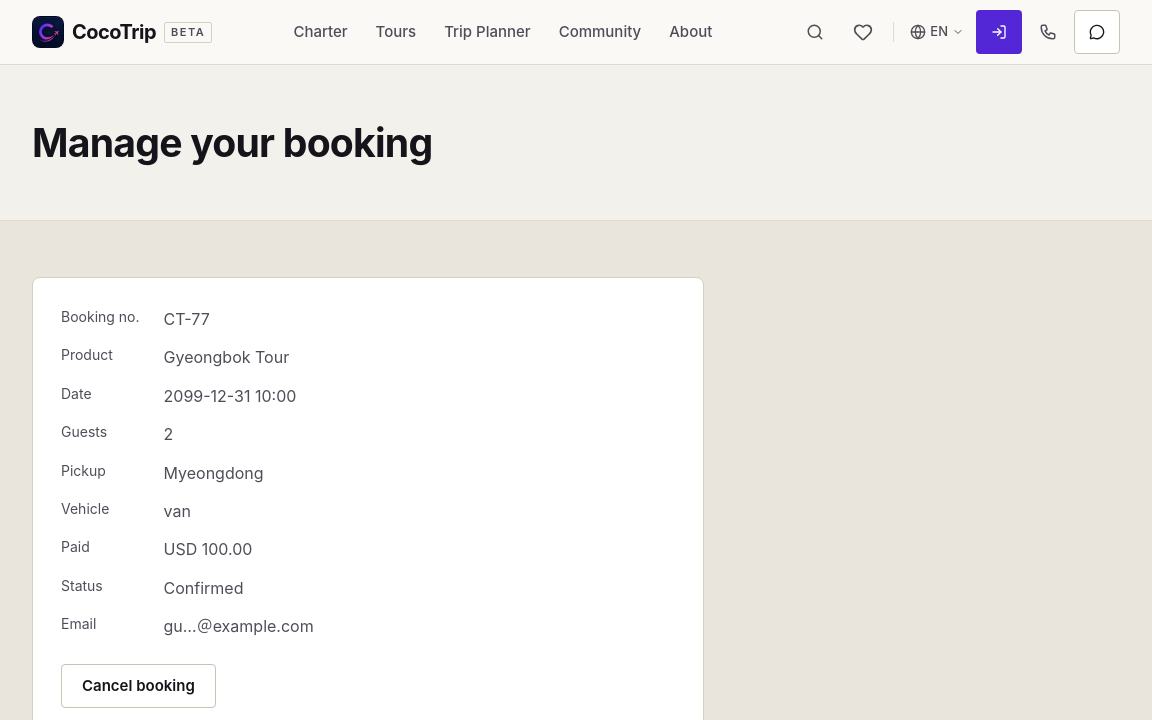
Test: /booking/manage › cancel 409 → reloads the latest status and shows the conflict notice (not the error screen)
The image size is (1152, 720).
Click the button "Cancel booking": {"x": 138, "y": 686} [61, 664, 216, 708]
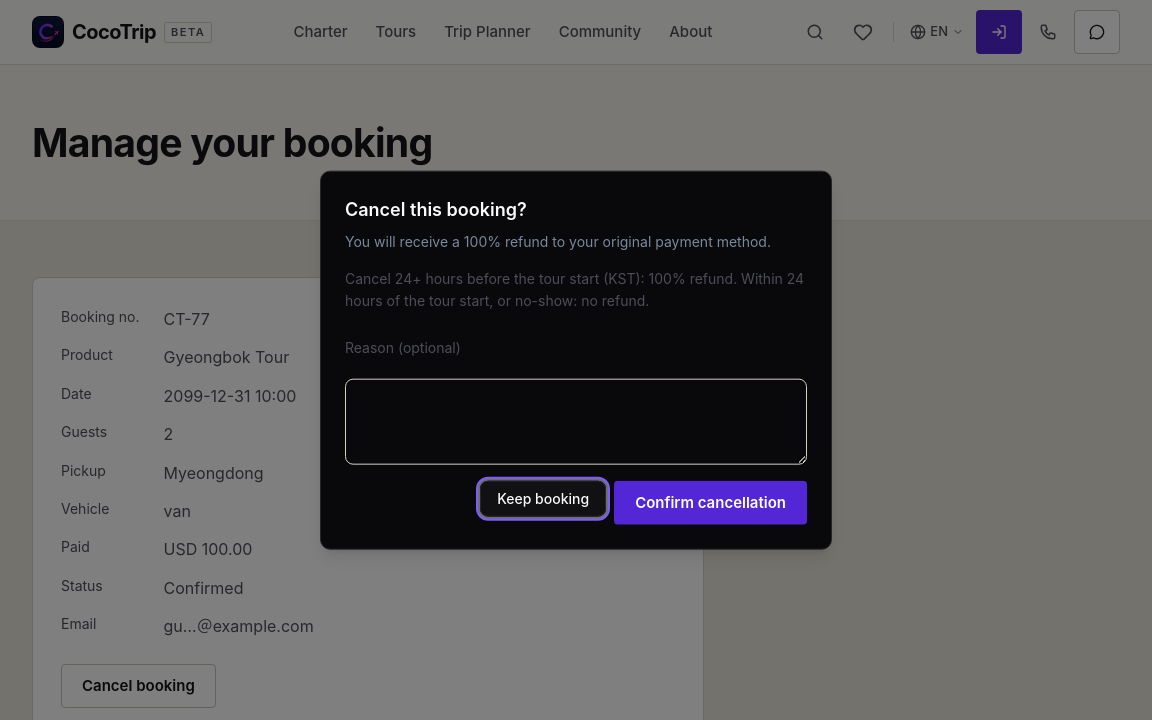
Click the button "Confirm cancellation": {"x": 711, "y": 502} [614, 480, 807, 524]
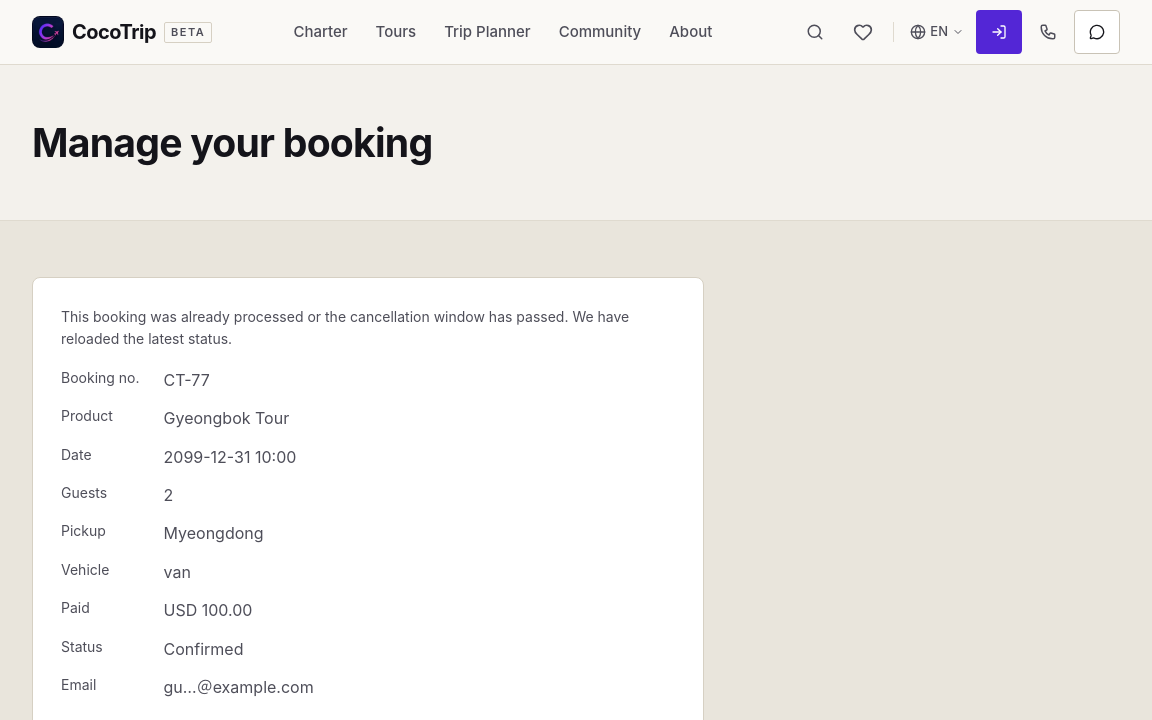
expect the text "This booking was already processed or the cancellation window has passed. We have reloaded the latest status." is shown: met, box [61, 308, 629, 348]
expect the button "Cancel booking" is gone: met
